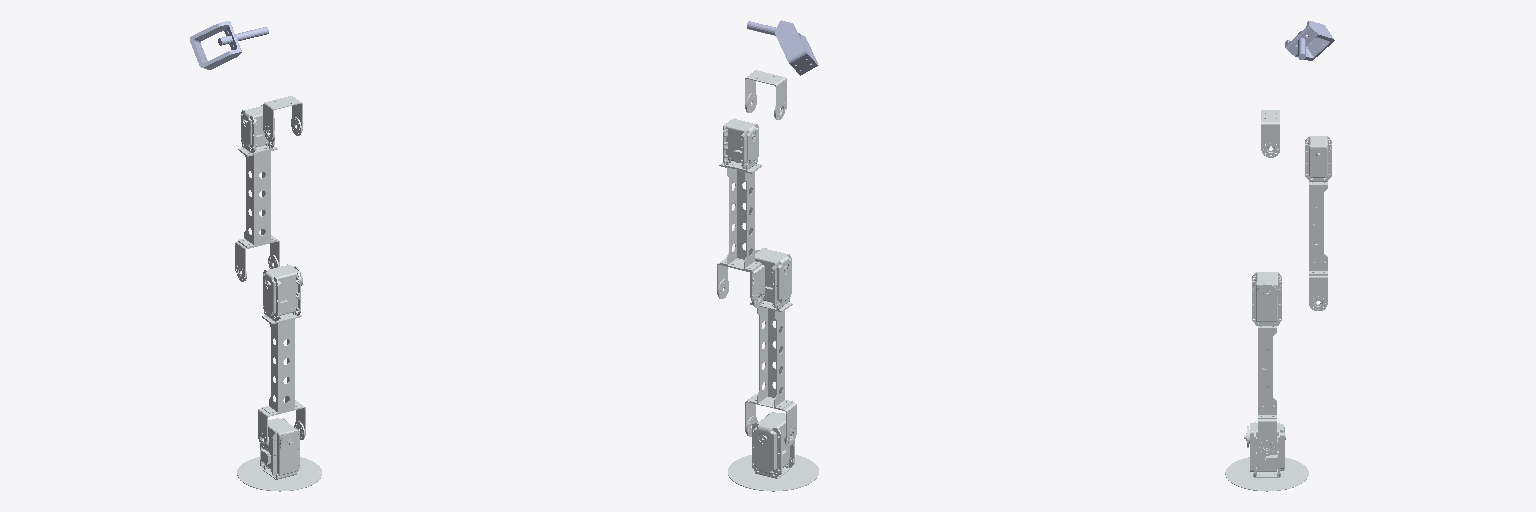
robot.urdf — crust_arm:
<?xml version="1.0" encoding="utf-8" ?>
<!-- This URDF was automatically created by SolidWorks to URDF Exporter! Originally created by [author] ([email redacted]) 
     Commit Version: 1.6.0-4-g7f85cfe  Build Version: 1.6.7995.38578
     For more information, please see http://wiki.ros.org/sw_urdf_exporter -->
<robot name="crust_arm">
    <link name="base_link">
        <inertial>
            <origin xyz="-0.00077543 -0.0011371 0.04167" rpy="0 0 0" />
            <mass value="0.70106" />
            <inertia ixx="0.0011971" ixy="-5.5315E-08" ixz="9.596E-08" iyy="0.0013838" iyz="-1.7418E-06" izz="0.0025267" />
        </inertial>
        <visual>
            <origin xyz="0 0 0" rpy="0 0 0" />
            <geometry>
                <mesh filename="package://crust_arm_description/meshes/base_link.STL" />
            </geometry>
            <material name="">
                <color rgba="0.89804 0.91765 0.92941 1" />
            </material>
        </visual>
        <collision>
            <origin xyz="0 0 0" rpy="0 0 0" />
            <geometry>
                <mesh filename="package://crust_arm_description/meshes/base_link.STL" />
            </geometry>
        </collision>
    </link>
    <link name="link_1">
        <inertial>
            <origin xyz="0.00034362 2.7088E-06 0.032412" rpy="0 0 0" />
            <mass value="0.1159" />
            <inertia ixx="5.2378E-05" ixy="2.3112E-09" ixz="-1.0628E-06" iyy="6.1382E-05" iyz="-1.6418E-09" izz="6.273E-05" />
        </inertial>
        <visual>
            <origin xyz="0 0 0" rpy="0 0 0" />
            <geometry>
                <mesh filename="package://crust_arm_description/meshes/link_1.STL" />
            </geometry>
            <material name="">
                <color rgba="0.89804 0.91765 0.92941 1" />
            </material>
        </visual>
        <collision>
            <origin xyz="0 0 0" rpy="0 0 0" />
            <geometry>
                <mesh filename="package://crust_arm_description/meshes/link_1.STL" />
            </geometry>
        </collision>
    </link>
    <joint name="joint_1" type="revolute">
        <origin xyz="0 0 0.059" rpy="0 0 0" />
        <parent link="base_link" />
        <child link="link_1" />
        <axis xyz="0 0 1" />
        <limit lower="-1.57" upper="1.57" effort="200" velocity="3" />
    </joint>
    <link name="link_2">
        <inertial>
            <origin xyz="-0.00096315 -0.16138 -0.00028433" rpy="0 0 0" />
            <mass value="0.11516" />
            <inertia ixx="8.1961E-05" ixy="-1.5264E-08" ixz="4.1398E-13" iyy="2.8324E-05" iyz="-8.8059E-07" izz="7.0335E-05" />
        </inertial>
        <visual>
            <origin xyz="0 0 0" rpy="0 0 0" />
            <geometry>
                <mesh filename="package://crust_arm_description/meshes/link_2.STL" />
            </geometry>
            <material name="">
                <color rgba="0.89804 0.91765 0.92941 1" />
            </material>
        </visual>
        <collision>
            <origin xyz="0 0 0" rpy="0 0 0" />
            <geometry>
                <mesh filename="package://crust_arm_description/meshes/link_2.STL" />
            </geometry>
        </collision>
    </link>
    <joint name="joint_2" type="revolute">
        <origin xyz="0.00315 0 0.0576" rpy="-1.5708 0 1.5708" />
        <parent link="link_1" />
        <child link="link_2" />
        <axis xyz="0 0 1" />
        <limit lower="-1.57" upper="1.8" effort="200" velocity="3" />
    </joint>
    <link name="link_3">
        <inertial>
            <origin xyz="-0.066271 -0.15219 1.5585E-05" rpy="0 0 0" />
            <mass value="0.08822" />
            <inertia ixx="6.3639E-05" ixy="-1.5265E-08" ixz="-4.1546E-12" iyy="1.8316E-05" iyz="-1.8274E-07" izz="5.5824E-05" />
        </inertial>
        <visual>
            <origin xyz="0 0 0" rpy="0 0 0" />
            <geometry>
                <mesh filename="package://crust_arm_description/meshes/link_3.STL" />
            </geometry>
            <material name="">
                <color rgba="0.89804 0.91765 0.92941 1" />
            </material>
        </visual>
        <collision>
            <origin xyz="0 0 0" rpy="0 0 0" />
            <geometry>
                <mesh filename="package://crust_arm_description/meshes/link_3.STL" />
            </geometry>
        </collision>
    </link>
    <joint name="joint_3" type="revolute">
        <origin xyz="0.067567 -0.20916 -0.003" rpy="0 0 0" />
        <parent link="link_2" />
        <child link="link_3" />
        <axis xyz="0 0 1" />
        <limit lower="-1.57" upper="1.57" effort="200" velocity="3" />
    </joint>
    <link name="link_4">
        <inertial>
            <origin xyz="1.1893E-14 -0.016617 4.5797E-16" rpy="0 0 0" />
            <mass value="0.012313" />
            <inertia ixx="4.0917E-06" ixy="-2.2315E-21" ixz="-5.2494E-22" iyy="3.3133E-06" iyz="-9.3524E-21" izz="2.0111E-06" />
        </inertial>
        <visual>
            <origin xyz="0 0 0" rpy="0 0 0" />
            <geometry>
                <mesh filename="package://crust_arm_description/meshes/link_4.STL" />
            </geometry>
            <material name="">
                <color rgba="0.89804 0.91765 0.92941 1" />
            </material>
        </visual>
        <collision>
            <origin xyz="0 0 0" rpy="0 0 0" />
            <geometry>
                <mesh filename="package://crust_arm_description/meshes/link_4.STL" />
            </geometry>
        </collision>
    </link>
    <joint name="joint_4" type="revolute">
        <origin xyz="-0.062567 -0.22194 -0.001675" rpy="0 0 0" />
        <parent link="link_3" />
        <child link="link_4" />
        <axis xyz="0 0 1" />
        <limit lower="-1.57" upper="1.57" effort="200" velocity="3" />
    </joint>
    <link name="tool_link">
        <inertial>
            <origin xyz="-6.9776E-09 -0.063948 -0.01183" rpy="0 0 0" />
            <mass value="0.025052" />
            <inertia ixx="9.7274E-06" ixy="3.2366E-12" ixz="1.409E-13" iyy="9.3307E-06" iyz="-2.7968E-06" izz="1.2097E-05" />
        </inertial>
        <visual>
            <origin xyz="0 0 0" rpy="0 0 0" />
            <geometry>
                <mesh filename="package://crust_arm_description/meshes/tool_link.STL" />
            </geometry>
            <material name="">
                <color rgba="0.79216 0.81961 0.93333 1" />
            </material>
        </visual>
        <collision>
            <origin xyz="0 0 0" rpy="0 0 0" />
            <geometry>
                <mesh filename="package://crust_arm_description/meshes/tool_link.STL" />
            </geometry>
        </collision>
    </link>
    <joint name="joint_tool" type="fixed">
        <origin xyz="0.040898 -0.1244 0" rpy="2.3562 1.5708 0" />
        <parent link="link_4" />
        <child link="tool_link" />
        <axis xyz="0 0 0" />
    </joint>
    <transmission name="trans_joint_1">
        <type>transmission_interface/SimpleTransmission</type>
        <joint name="joint_1">
            <hardwareInterface>hardware_interface/EffortJointInterface</hardwareInterface>
        </joint>
        <actuator name="joint_1_motor">
            <hardwareInterface>hardware_interface/EffortJointInterface</hardwareInterface>
            <mechanicalReduction>1</mechanicalReduction>
        </actuator>
    </transmission>
    <transmission name="trans_joint_2">
        <type>transmission_interface/SimpleTransmission</type>
        <joint name="joint_2">
            <hardwareInterface>hardware_interface/EffortJointInterface</hardwareInterface>
        </joint>
        <actuator name="joint_2_motor">
            <hardwareInterface>hardware_interface/EffortJointInterface</hardwareInterface>
            <mechanicalReduction>1</mechanicalReduction>
        </actuator>
    </transmission>
    <transmission name="trans_joint_3">
        <type>transmission_interface/SimpleTransmission</type>
        <joint name="joint_3">
            <hardwareInterface>hardware_interface/EffortJointInterface</hardwareInterface>
        </joint>
        <actuator name="joint_3_motor">
            <hardwareInterface>hardware_interface/EffortJointInterface</hardwareInterface>
            <mechanicalReduction>1</mechanicalReduction>
        </actuator>
    </transmission>
    <transmission name="trans_joint_4">
        <type>transmission_interface/SimpleTransmission</type>
        <joint name="joint_4">
            <hardwareInterface>hardware_interface/EffortJointInterface</hardwareInterface>
        </joint>
        <actuator name="joint_4_motor">
            <hardwareInterface>hardware_interface/EffortJointInterface</hardwareInterface>
            <mechanicalReduction>1</mechanicalReduction>
        </actuator>
    </transmission>
    <gazebo>
        <plugin name="gazebo_ros_control">
            <robotNamespace>/</robotNamespace>
        </plugin>
    </gazebo>
</robot>

--- Render facts (derived) ---
3 views of the same robot in one strip: view 1: azimuth 30°, elevation 25°; view 2: azimuth 150°, elevation 25°; view 3: azimuth 270°, elevation 25° (orthographic).
Model crust_arm with 6 links and 5 joints (4 revolute, 1 fixed), rooted at base_link, posed every joint at zero.
Visible links, largest first — view 1: link_2, link_3, link_1, tool_link, link_4; view 2: link_2, link_3, link_1, tool_link, link_4; view 3: link_2, link_3, link_1, tool_link, link_4.
Link boxes in pixels (x1=…): link_2: x1=258, y1=264, x2=305, y2=448; link_3: x1=235, y1=105, x2=279, y2=281; link_1: x1=237, y1=418, x2=321, y2=491; tool_link: x1=190, y1=21, x2=268, y2=69; link_4: x1=263, y1=96, x2=302, y2=141; link_2: x1=745, y1=248, x2=796, y2=445; link_3: x1=717, y1=118, x2=764, y2=307; link_1: x1=728, y1=412, x2=818, y2=491; tool_link: x1=747, y1=20, x2=818, y2=75; link_4: x1=745, y1=70, x2=786, y2=119; link_2: x1=1252, y1=272, x2=1281, y2=454; link_3: x1=1305, y1=136, x2=1331, y2=310; link_1: x1=1225, y1=422, x2=1308, y2=491; tool_link: x1=1285, y1=21, x2=1334, y2=60; link_4: x1=1261, y1=110, x2=1279, y2=157.
Bounding box of the posed robot: 0.1457 × 0.1438 × 0.6315 m (x, y, z).
Meshes: 6 distinct files referenced, 5 mesh visuals loaded (5 binary STL); not drawn: 1 (reference not matched to a file when rendering).